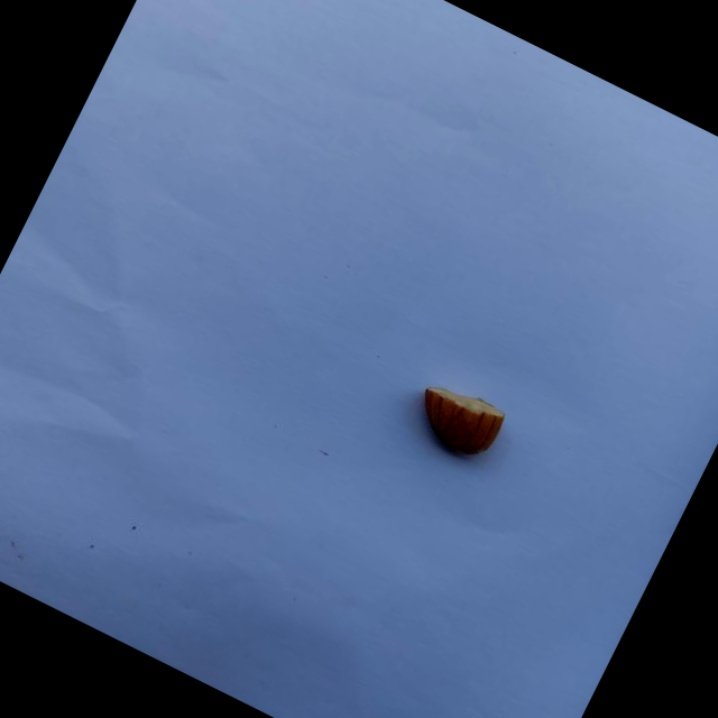grade4: (395, 367, 518, 475)
